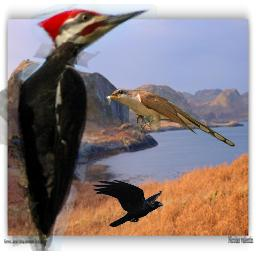Crow: (92, 179, 165, 227)
Cuckoo: (103, 88, 236, 147)
Woodpecker: (0, 4, 157, 251)
